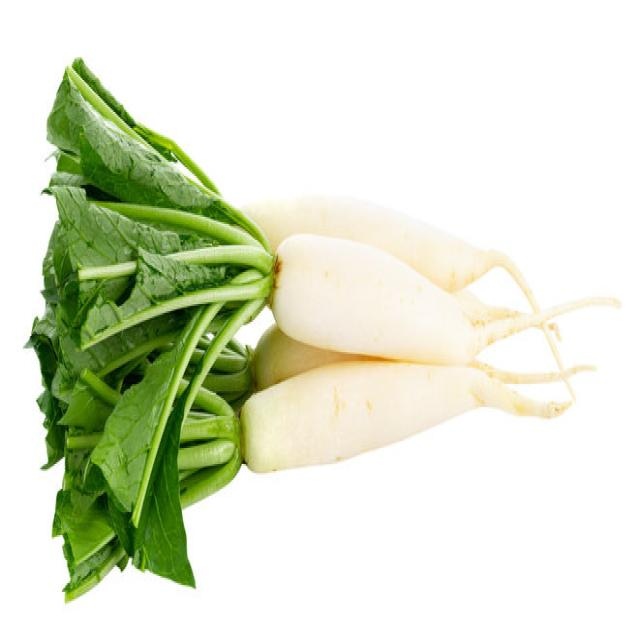Radish: (23, 55, 620, 601), (75, 192, 618, 375), (268, 230, 619, 372), (238, 355, 576, 473), (240, 192, 540, 308), (251, 322, 360, 391)
